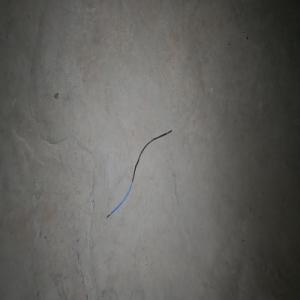Wire: (106, 129, 172, 218)
